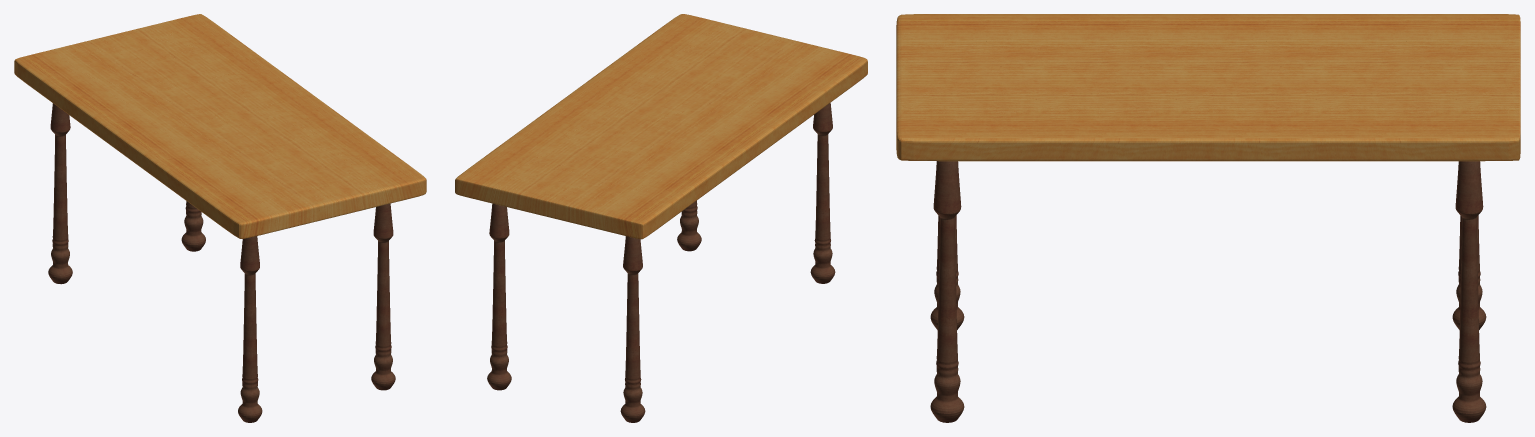
The picture shows the model from 3 angles, left to right: view 1: azimuth 30°, elevation 25°; view 2: azimuth 150°, elevation 25°; view 3: azimuth 270°, elevation 25°; orthographic projection. The views are drawn at different scales.
Parts seen in each view (by area): view 1: upper table_0, leg.001_0, leg.002_0, leg_0, leg.003_0; view 2: upper table_0, leg_0, leg.003_0, leg.001_0, leg.002_0; view 3: upper table_0, leg.002_0, leg.003_0, leg.001_0, leg_0.
Boxes of the visible parts, bbox=[...] form: upper table_0: bbox=[14, 14, 426, 238]; leg.001_0: bbox=[238, 236, 262, 422]; leg.002_0: bbox=[371, 203, 395, 390]; leg_0: bbox=[48, 103, 72, 284]; leg.003_0: bbox=[181, 201, 205, 251]; upper table_0: bbox=[455, 14, 867, 239]; leg_0: bbox=[620, 236, 645, 422]; leg.003_0: bbox=[487, 203, 511, 390]; leg.001_0: bbox=[810, 103, 835, 283]; leg.002_0: bbox=[677, 200, 701, 251]; upper table_0: bbox=[896, 14, 1520, 161]; leg.002_0: bbox=[930, 161, 964, 422]; leg.003_0: bbox=[1452, 161, 1486, 422]; leg.001_0: bbox=[930, 215, 964, 329]; leg_0: bbox=[1452, 215, 1486, 329].
Size of the model in its own units: 0.7628 by 0.833 by 1.58.
Materials: 2 (2 with a texture image).
